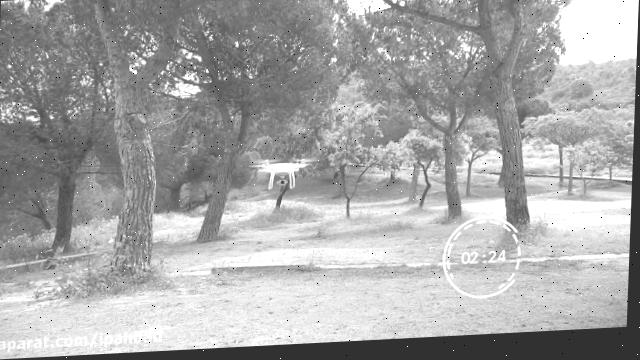drone: (244, 157, 319, 193)
